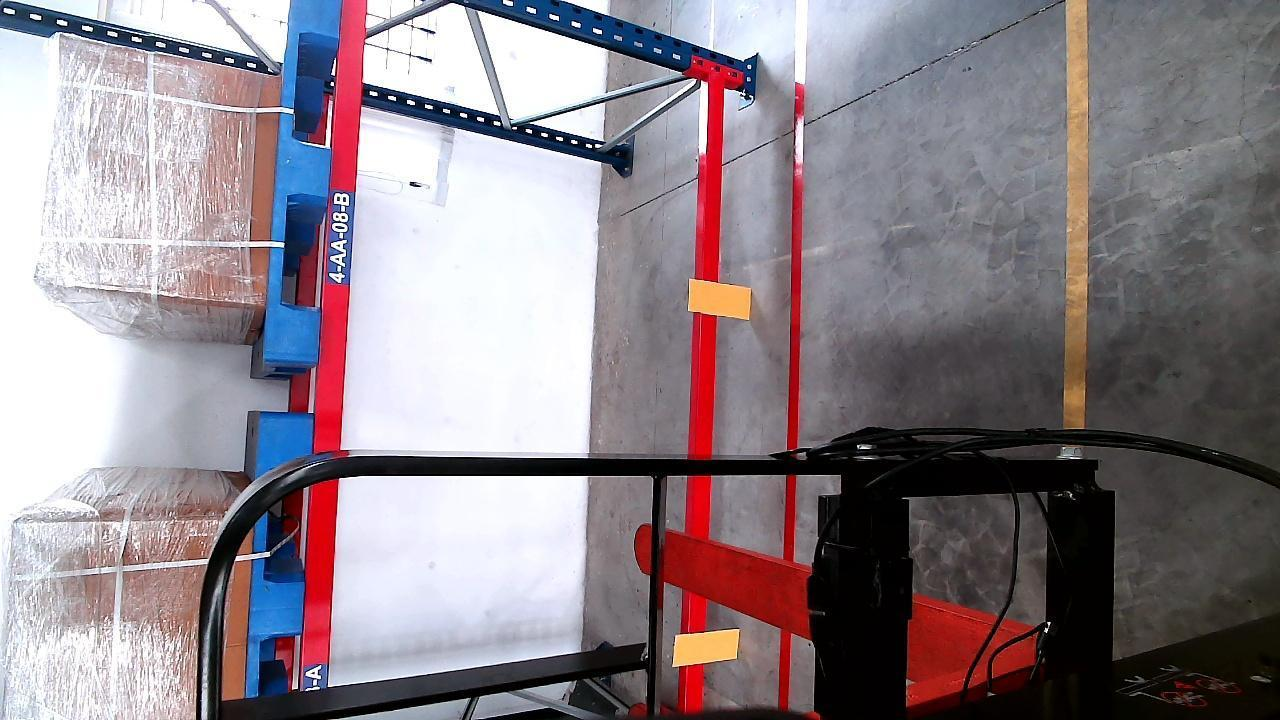h_rack: (306, 0, 368, 690), (680, 81, 729, 718)
orange_strip: (691, 279, 751, 318), (676, 628, 739, 665)
red_line: (780, 1, 810, 717)
small_pallet: (268, 0, 341, 361), (245, 416, 313, 692)
yellow_line: (1065, 0, 1091, 434)
